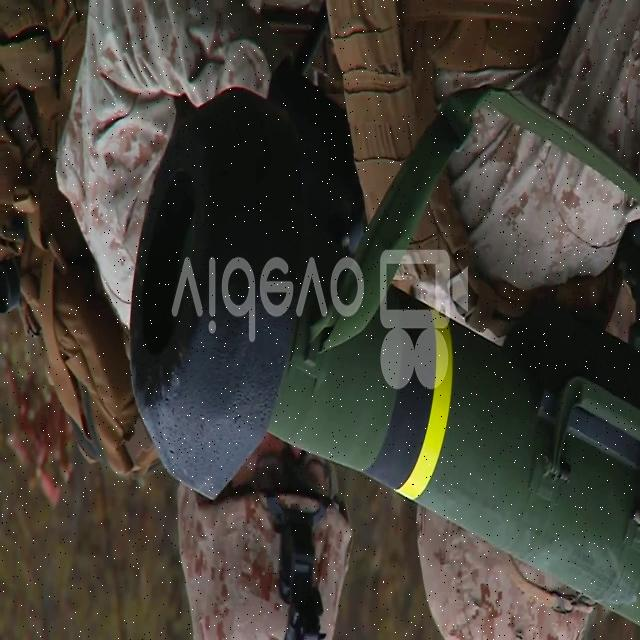bazooka: (132, 52, 640, 640)
